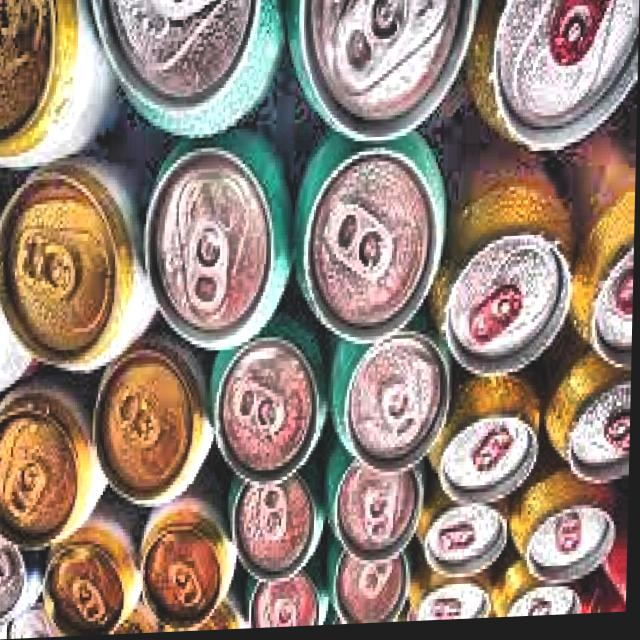can: (0, 159, 162, 389), (288, 130, 453, 354), (138, 141, 298, 359), (435, 150, 580, 387), (275, 0, 483, 157), (86, 0, 294, 156), (462, 0, 640, 166), (0, 358, 109, 557), (90, 344, 214, 516), (0, 0, 123, 172), (209, 330, 331, 498), (326, 331, 457, 486), (564, 153, 637, 386), (422, 379, 546, 513), (136, 501, 243, 635), (509, 478, 626, 596), (42, 509, 144, 638), (331, 446, 429, 569), (545, 362, 633, 498), (230, 463, 326, 584), (422, 502, 514, 583), (332, 551, 418, 628), (495, 570, 601, 622), (247, 567, 331, 631), (412, 566, 498, 625)
